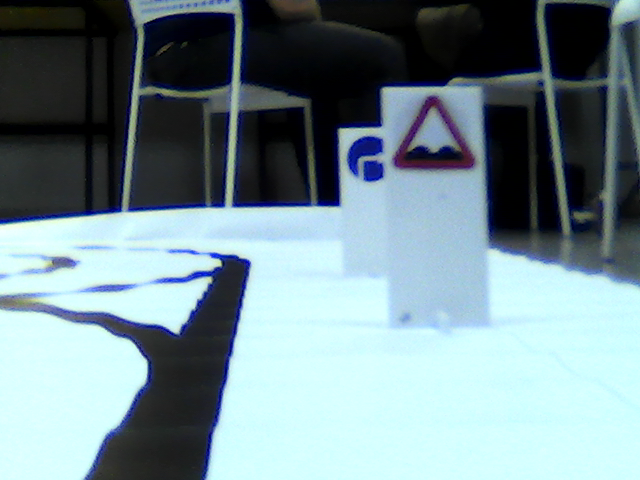Nerov: (392, 93, 476, 177)
Right: (345, 135, 385, 180)
